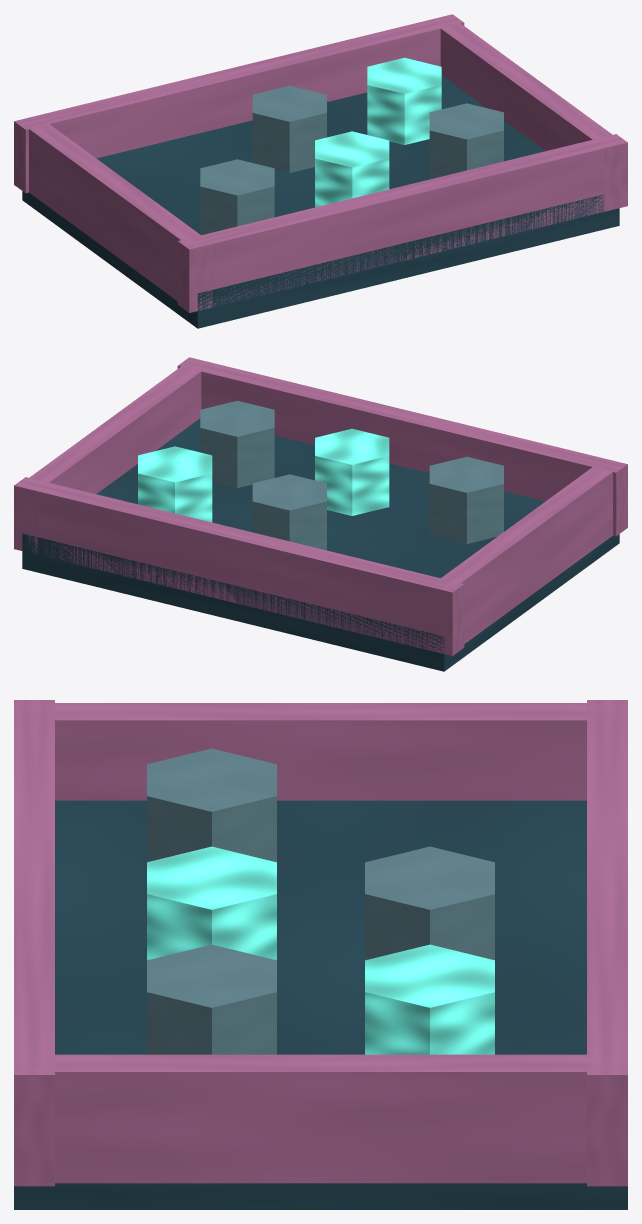
The model's file is atlas100-s061-a03.lod1.glb.
The picture shows the model from 3 angles, top to bottom: view 1: azimuth 30°, elevation 25°; view 2: azimuth 150°, elevation 25°; view 3: azimuth 270°, elevation 25°; orthographic projection. The views are drawn at different scales.
Visible parts, largest first — view 1: atlas100-s061-a03:part-000, atlas100-s061-a03:part-002, atlas100-s061-a03:part-001, atlas100-s061-a03:part-003, atlas100-s061-a03:part-004, atlas100-s061-a03:part-007, atlas100-s061-a03:part-006, atlas100-s061-a03:part-010, atlas100-s061-a03:part-008, atlas100-s061-a03:part-009; view 2: atlas100-s061-a03:part-001, atlas100-s061-a03:part-000, atlas100-s061-a03:part-002, atlas100-s061-a03:part-003, atlas100-s061-a03:part-004, atlas100-s061-a03:part-008, atlas100-s061-a03:part-009, atlas100-s061-a03:part-010, atlas100-s061-a03:part-007, atlas100-s061-a03:part-006; view 3: atlas100-s061-a03:part-000, atlas100-s061-a03:part-004, atlas100-s061-a03:part-003, atlas100-s061-a03:part-001, atlas100-s061-a03:part-002, atlas100-s061-a03:part-007, atlas100-s061-a03:part-010, atlas100-s061-a03:part-008, atlas100-s061-a03:part-006, atlas100-s061-a03:part-009.
Boxes of the visible parts, <box> form: atlas100-s061-a03:part-000: <box>22,75,619,328</box>; atlas100-s061-a03:part-002: <box>177,134,627,312</box>; atlas100-s061-a03:part-001: <box>14,14,464,193</box>; atlas100-s061-a03:part-003: <box>29,124,212,311</box>; atlas100-s061-a03:part-004: <box>430,15,624,211</box>; atlas100-s061-a03:part-007: <box>367,57,441,144</box>; atlas100-s061-a03:part-006: <box>252,85,326,172</box>; atlas100-s061-a03:part-010: <box>429,103,503,179</box>; atlas100-s061-a03:part-008: <box>200,159,274,235</box>; atlas100-s061-a03:part-009: <box>315,131,389,207</box>; atlas100-s061-a03:part-001: <box>14,477,464,655</box>; atlas100-s061-a03:part-000: <box>22,418,619,671</box>; atlas100-s061-a03:part-002: <box>177,357,627,536</box>; atlas100-s061-a03:part-003: <box>429,467,612,654</box>; atlas100-s061-a03:part-004: <box>17,358,211,554</box>; atlas100-s061-a03:part-008: <box>429,456,503,543</box>; atlas100-s061-a03:part-009: <box>315,428,389,515</box>; atlas100-s061-a03:part-010: <box>200,400,274,487</box>; atlas100-s061-a03:part-007: <box>138,446,212,522</box>; atlas100-s061-a03:part-006: <box>252,474,326,550</box>; atlas100-s061-a03:part-000: <box>14,800,627,1209</box>; atlas100-s061-a03:part-004: <box>14,1054,627,1183</box>; atlas100-s061-a03:part-003: <box>14,703,627,800</box>; atlas100-s061-a03:part-001: <box>587,700,627,1186</box>; atlas100-s061-a03:part-002: <box>14,700,54,1186</box>; atlas100-s061-a03:part-007: <box>365,944,494,1054</box>; atlas100-s061-a03:part-010: <box>147,944,276,1054</box>; atlas100-s061-a03:part-008: <box>147,748,276,862</box>; atlas100-s061-a03:part-006: <box>365,846,494,960</box>; atlas100-s061-a03:part-009: <box>147,846,276,960</box>.
Size of the model in its own units: 1.36 by 0.2563 by 0.9414.
4 materials, 4 textured.
